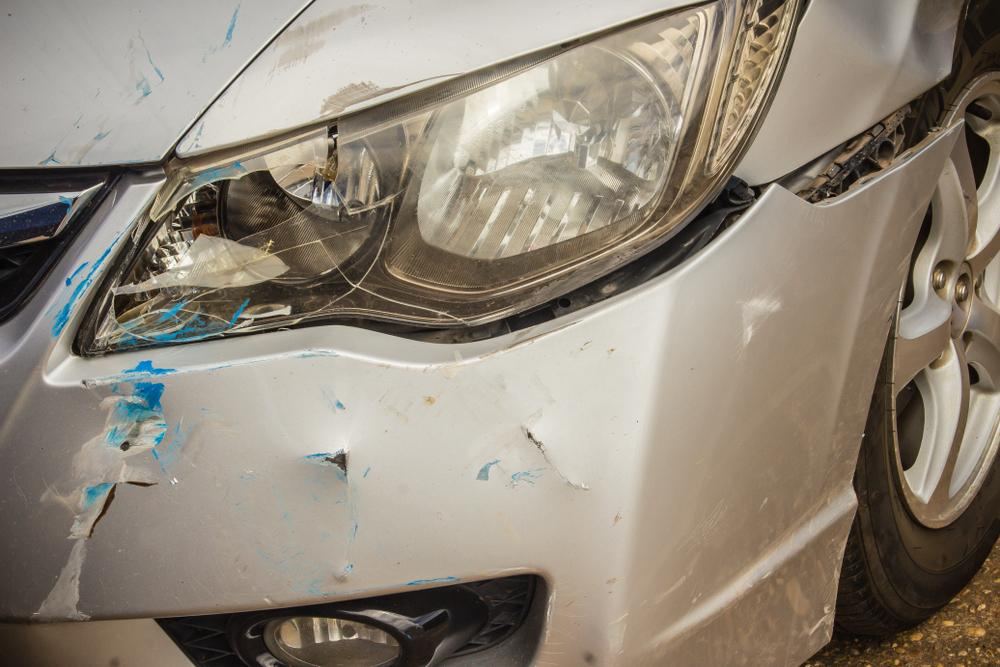crack: (87, 480, 166, 539)
dent: (824, 0, 961, 78)
lamp broken: (72, 0, 732, 357)
scratch: (32, 355, 182, 537), (734, 290, 780, 348)
